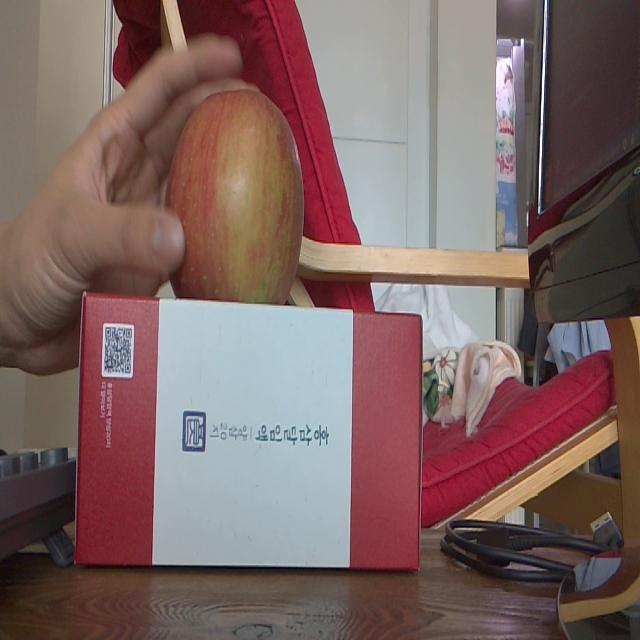apple: (169, 88, 307, 306)
